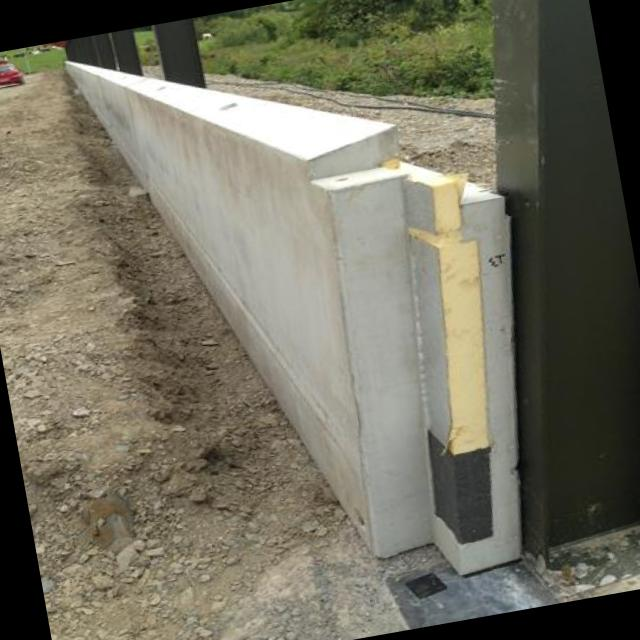cement: (70, 66, 435, 556)
grass: (203, 9, 493, 95)
red-sand: (0, 73, 333, 640)
